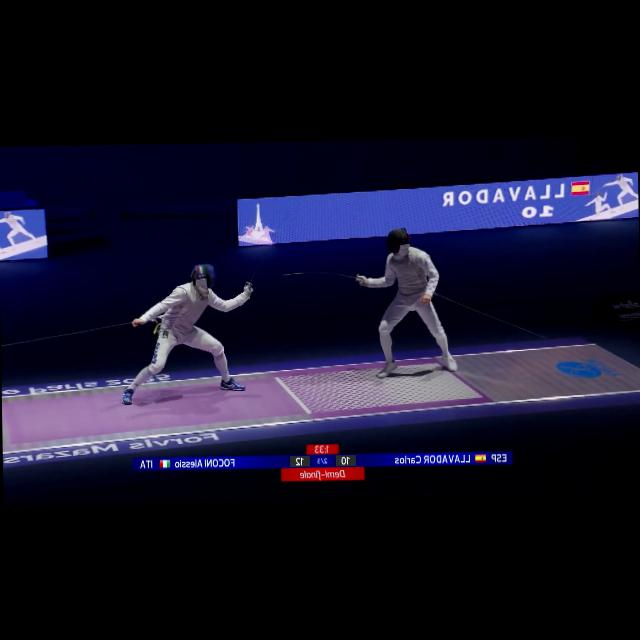blade: (238, 212, 288, 294), (282, 265, 368, 287)
